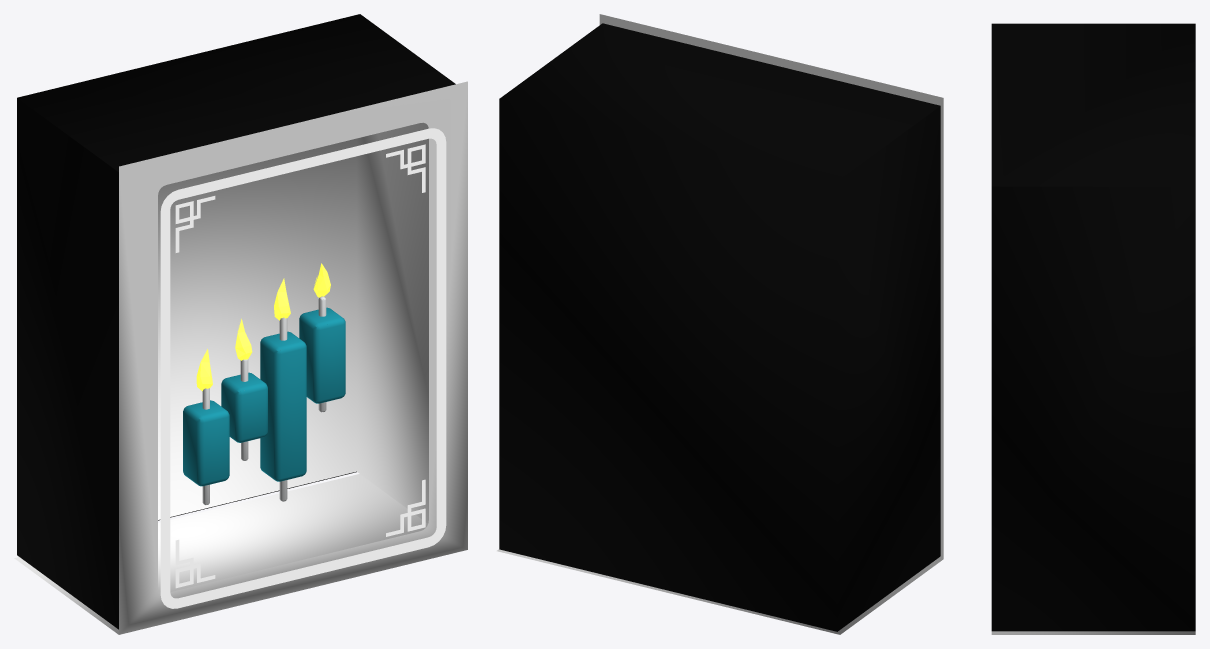
The model's file is tinyJapCanBox.glb.
3 views of the same model, side by side, from view 1: azimuth 30°, elevation 25°; view 2: azimuth 150°, elevation 25°; view 3: azimuth 270°, elevation 25° (orthographic). The views are drawn at different scales.
Parts seen in each view (by area): view 1: Box, OuterBox, CardBorder, JC3, JC4, JC1, JC2, Card_Details; view 2: OuterBox, Box; view 3: OuterBox, Box.
Boxes of the visible parts, box(x1,y1,x2,y2) form: Box: box(14, 81, 467, 634); OuterBox: box(17, 14, 455, 629); CardBorder: box(160, 128, 446, 608); JC3: box(260, 317, 306, 501); JC4: box(299, 296, 345, 412); JC1: box(183, 388, 229, 505); JC2: box(221, 359, 267, 460); Card_Details: box(175, 144, 425, 588); OuterBox: box(499, 23, 940, 631); Box: box(497, 14, 943, 634); OuterBox: box(991, 23, 1195, 631); Box: box(991, 631, 1195, 634).
Bounding box in the file's own units: 3.91 × 5.01 × 2.23.
Materials: 6 (1 with a texture image).
